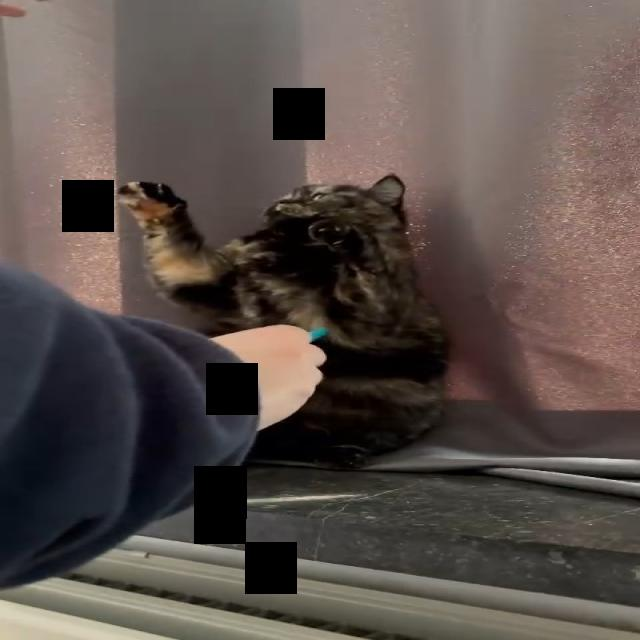authorized: (115, 173, 452, 469)
